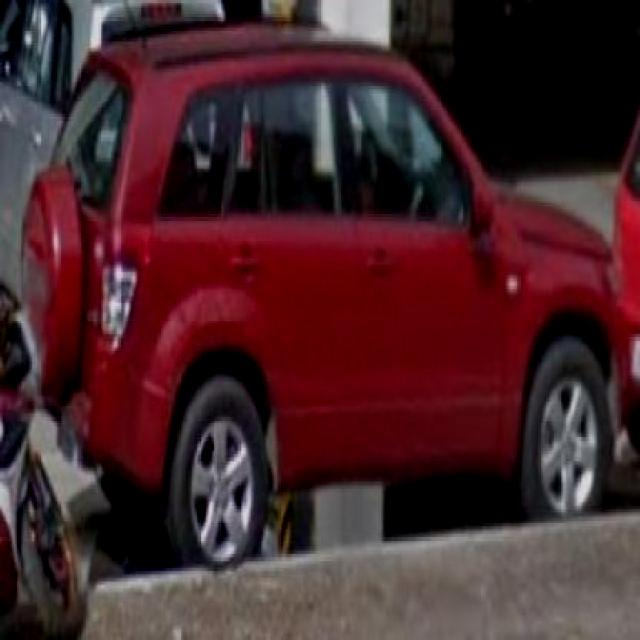car: (20, 35, 619, 569)
